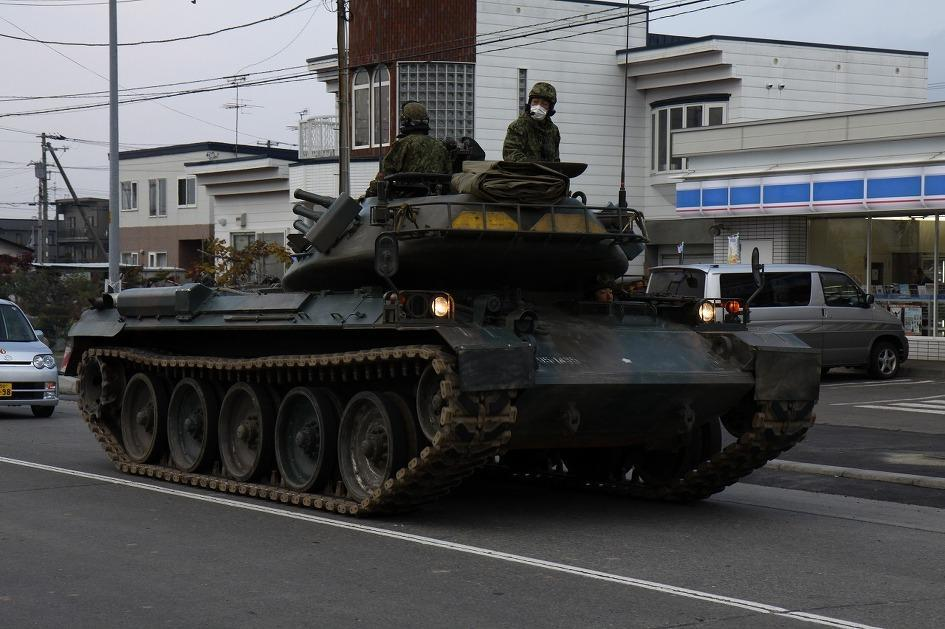MIL_IFV: (65, 166, 824, 522)
